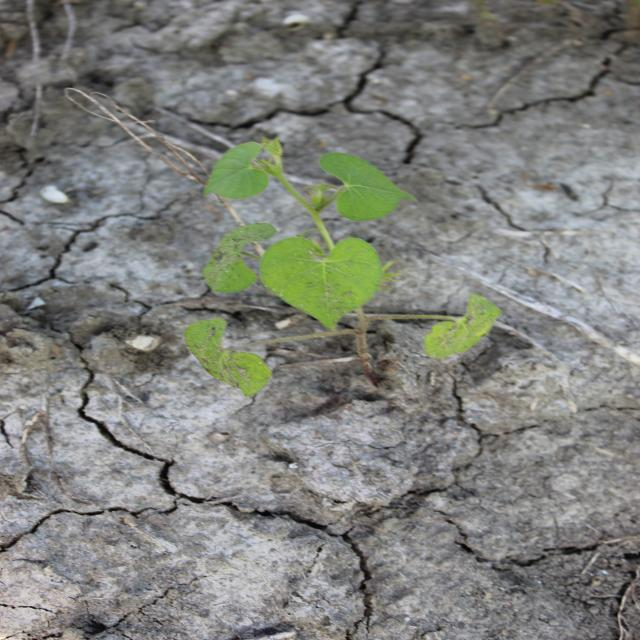MorningGlory: (180, 135, 505, 401)
